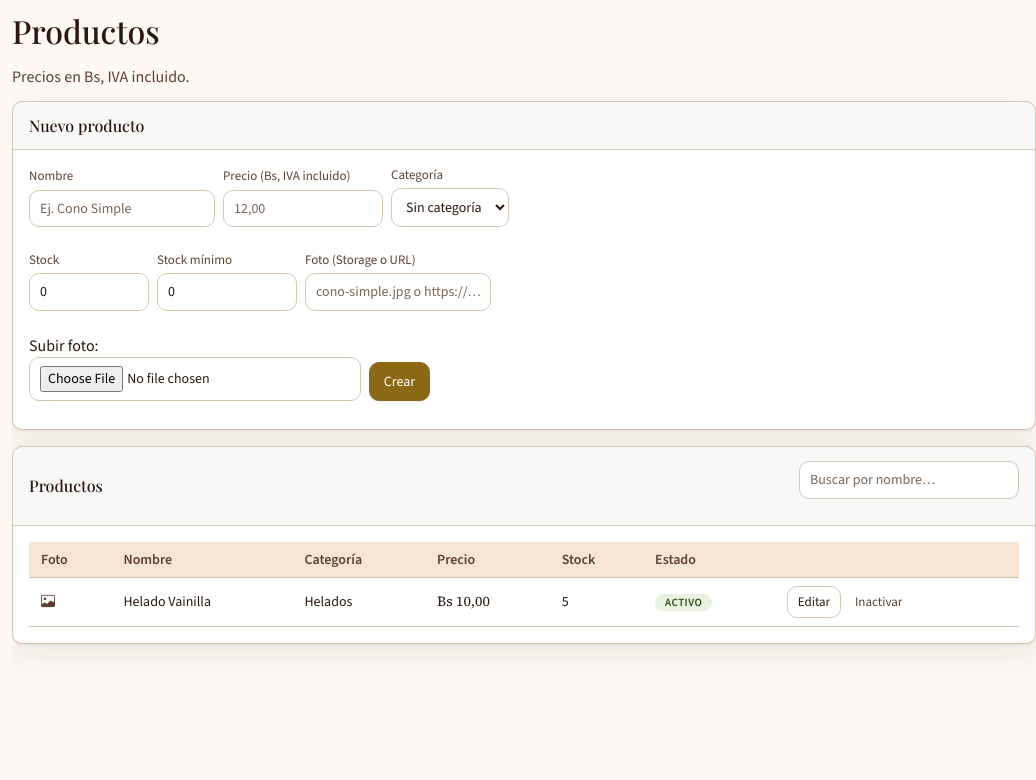
Test: Productos duplicado por categoria › escribir nombre existente (distinto case/espacios) bloquea Guardar
Expected: the text "Helado Vainilla" is shown, [111,578,292,626]
Select "Helados" in the dropdown at (450, 208), box [391,188,509,227]
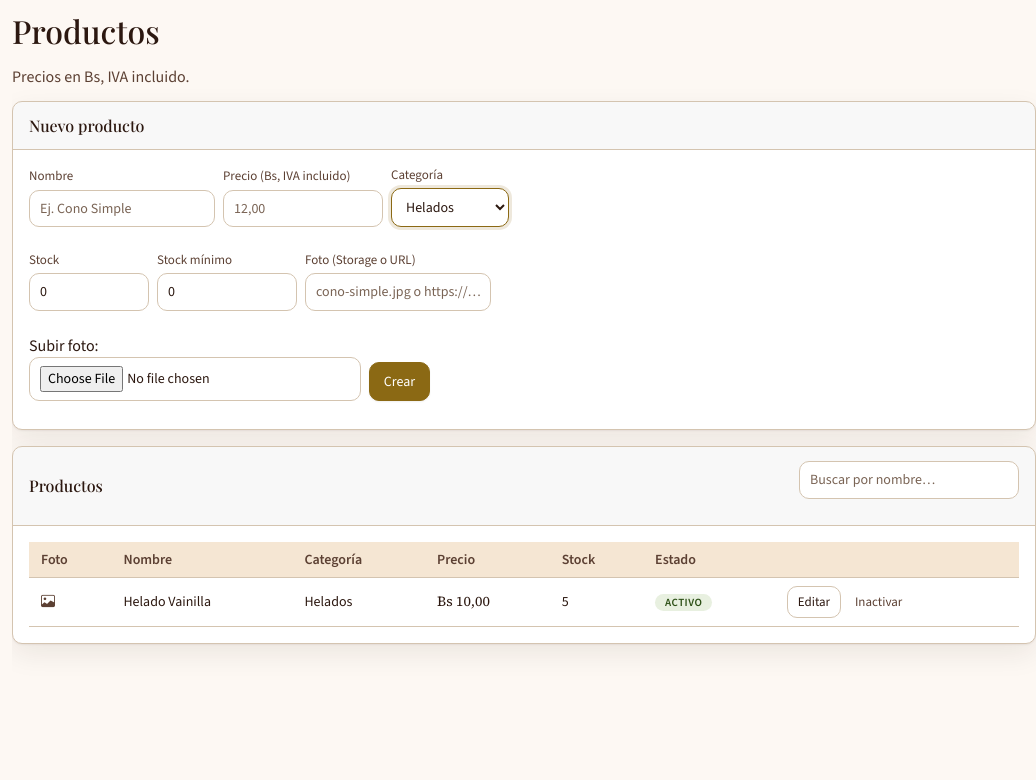
Type "helado  vainilla " into the field with placeholder "Ej. Cono Simple" at (122, 208), box [29,190,215,227]
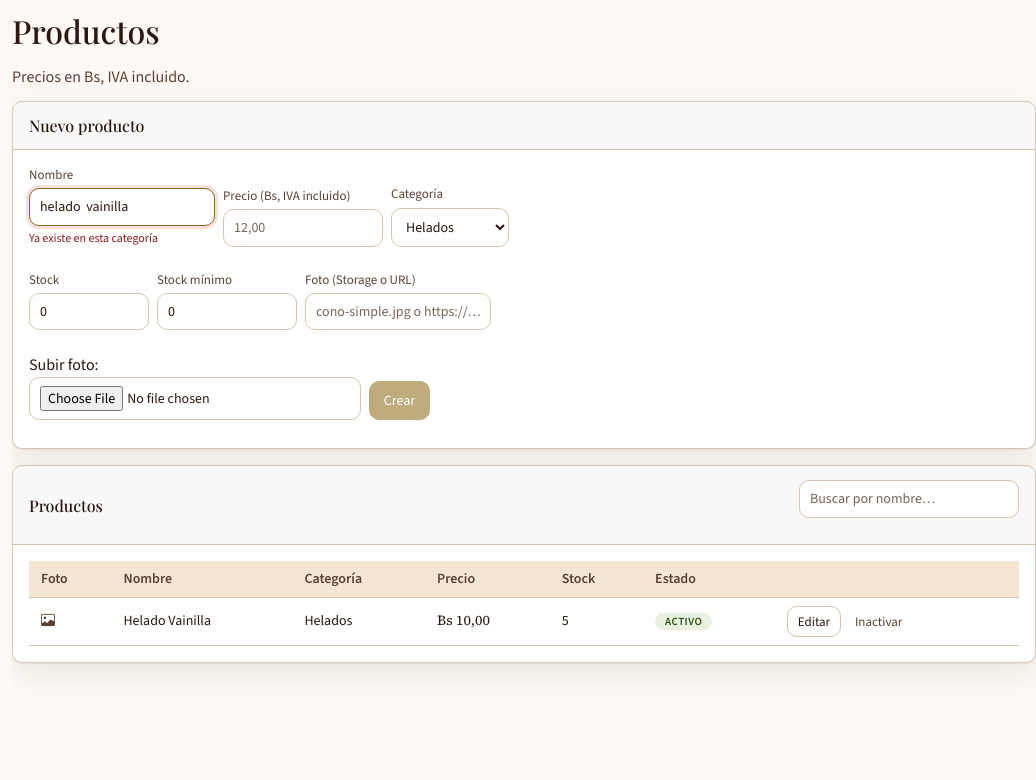
Result: the text "Ya existe en esta categoría" is shown at [29,230,158,246]
Result: the button "Crear" is disabled at [369,381,430,420]
